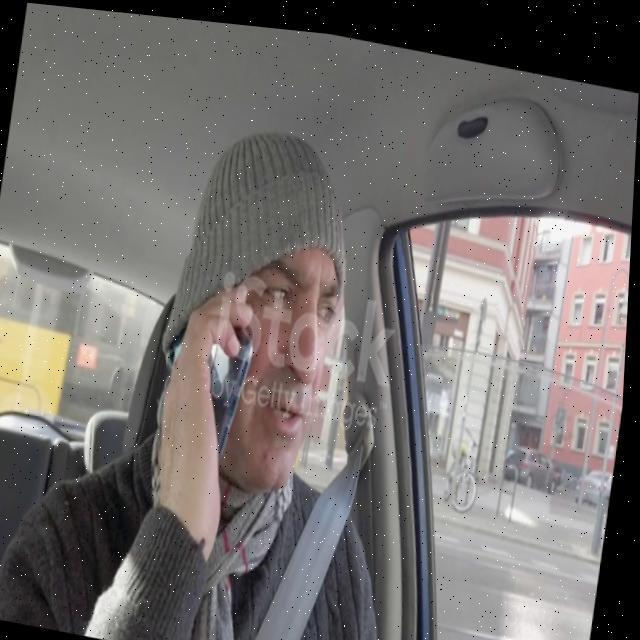PhoneCall: (156, 286, 264, 448)
